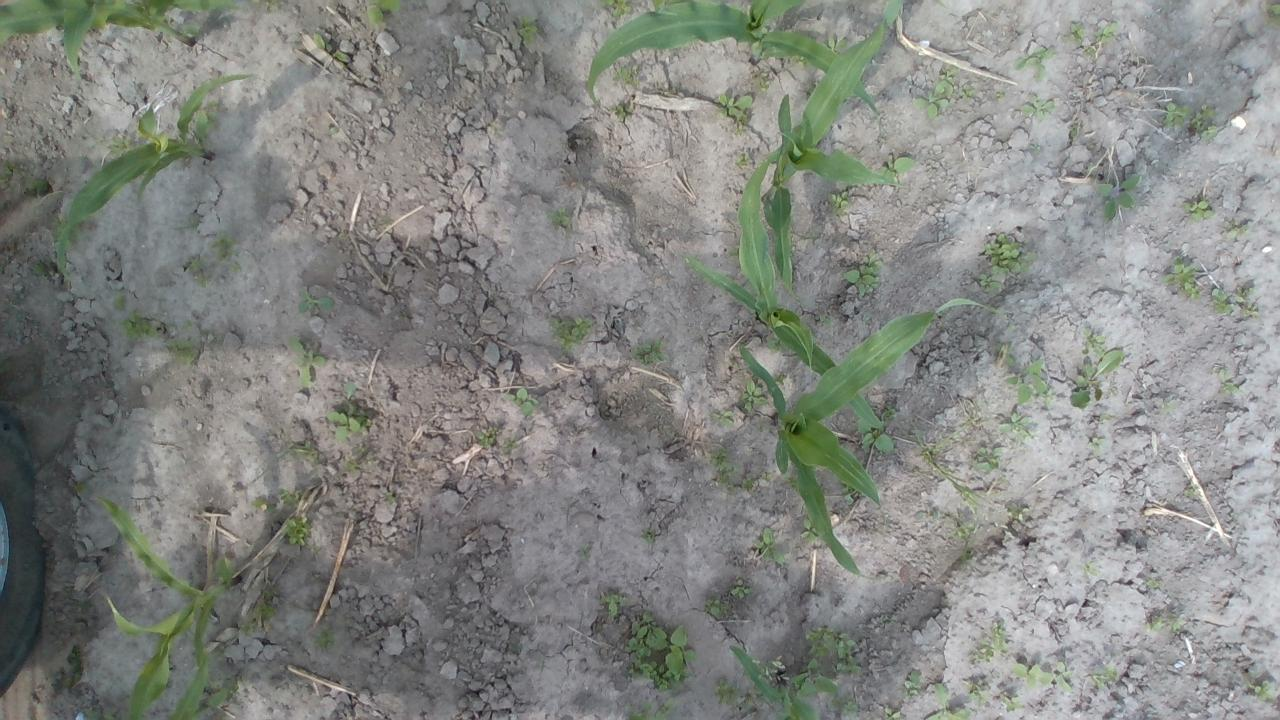Maize: (739, 296, 1012, 578), (688, 142, 883, 429), (50, 72, 257, 278), (764, 0, 910, 287), (583, 1, 885, 114), (92, 493, 226, 720), (1, 1, 238, 70), (726, 644, 835, 720)
Weeds: (917, 433, 999, 511), (627, 611, 696, 691), (1071, 346, 1123, 408), (980, 229, 1034, 273), (1094, 175, 1139, 219), (1010, 43, 1057, 82), (841, 254, 882, 298), (922, 683, 970, 720), (1006, 357, 1046, 400), (550, 312, 594, 350), (1164, 255, 1201, 300), (792, 661, 838, 694), (1000, 404, 1040, 441), (290, 342, 325, 384), (754, 526, 787, 568), (327, 405, 364, 438), (860, 421, 896, 454), (238, 602, 272, 636), (300, 284, 335, 314), (836, 636, 865, 672), (1012, 662, 1050, 688), (737, 463, 773, 490), (1021, 94, 1057, 121), (968, 680, 996, 714), (966, 445, 1004, 470), (969, 639, 1000, 669), (316, 33, 345, 63), (742, 376, 766, 412), (806, 622, 830, 656), (637, 340, 668, 366), (963, 396, 988, 428), (64, 646, 82, 690), (1090, 660, 1120, 686), (882, 154, 912, 180), (279, 437, 316, 458), (711, 450, 734, 483), (508, 388, 538, 413), (717, 94, 751, 116), (365, 1, 398, 23), (286, 517, 312, 544), (1224, 218, 1255, 240), (604, 588, 630, 614), (1080, 330, 1108, 354), (1192, 103, 1214, 133), (937, 68, 958, 99), (911, 92, 937, 117), (1080, 557, 1102, 586), (122, 314, 151, 336), (1211, 286, 1235, 312), (190, 258, 214, 284), (1055, 662, 1074, 694), (517, 17, 539, 44), (714, 678, 738, 702), (1162, 103, 1188, 125), (166, 338, 196, 357), (1096, 21, 1120, 44), (1186, 200, 1216, 218), (997, 692, 1024, 712), (730, 578, 756, 598), (990, 624, 1010, 650), (904, 671, 926, 694), (704, 598, 730, 616), (801, 518, 819, 544), (596, 1, 628, 15), (612, 68, 634, 88), (1256, 680, 1276, 700), (476, 431, 497, 450), (1, 165, 22, 184), (726, 118, 748, 136), (713, 409, 736, 426), (108, 133, 128, 152), (252, 495, 272, 514), (654, 701, 674, 720), (1218, 370, 1236, 391), (981, 275, 1002, 293), (751, 68, 770, 87), (216, 234, 234, 254), (278, 490, 302, 505), (1089, 435, 1110, 452), (552, 208, 569, 229), (1164, 615, 1186, 631), (960, 84, 976, 106), (1070, 22, 1088, 41), (316, 628, 335, 646), (961, 541, 974, 567), (1008, 501, 1030, 516), (255, 0, 288, 10), (28, 174, 46, 192), (1266, 0, 1280, 22), (883, 706, 905, 720), (734, 150, 751, 168), (612, 105, 628, 124), (344, 380, 359, 400), (832, 191, 846, 212), (344, 461, 361, 478), (956, 523, 974, 539), (1144, 614, 1160, 632), (842, 698, 858, 716), (1085, 43, 1107, 56), (1182, 482, 1197, 500), (110, 294, 128, 309), (744, 688, 760, 704), (1159, 401, 1178, 414), (266, 586, 280, 603), (1234, 287, 1252, 300), (1146, 577, 1164, 590), (1242, 306, 1258, 320), (816, 312, 832, 326), (577, 544, 593, 558), (382, 487, 396, 503), (499, 440, 519, 450), (34, 263, 48, 277), (71, 481, 85, 494), (642, 529, 656, 541), (631, 713, 653, 720), (996, 90, 1006, 105), (1098, 412, 1111, 421), (232, 262, 242, 272), (182, 321, 192, 329)
